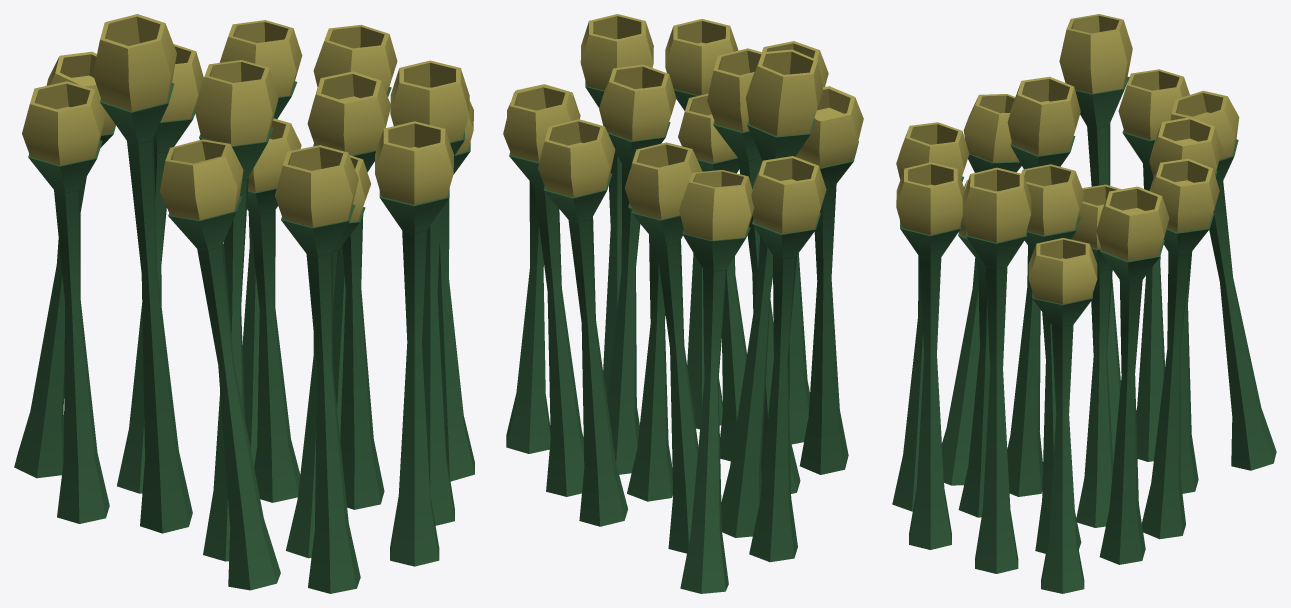
The model's file is flor_conj_G.fbx.
3 renders of one model, left to right at view 1: azimuth 30°, elevation 25°; view 2: azimuth 150°, elevation 25°; view 3: azimuth 270°, elevation 25°, orthographic. The views are drawn at different scales.
Visible parts, largest first — view 1: flor_conjunto_G; view 2: flor_conjunto_G; view 3: flor_conjunto_G.
Part boxes in pixels (x1=…): flor_conjunto_G: x1=14, y1=14, x2=474, y2=593; flor_conjunto_G: x1=503, y1=14, x2=863, y2=593; flor_conjunto_G: x1=892, y1=14, x2=1276, y2=593.
Bounding box in the file's own units: 8.54 × 10.5 × 8.23.
